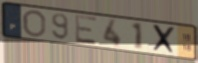1: (131, 22, 145, 51)
4: (101, 18, 124, 50)
9: (50, 13, 70, 41)
E: (73, 14, 99, 47)
O: (21, 9, 47, 39)
X: (151, 23, 177, 56)
